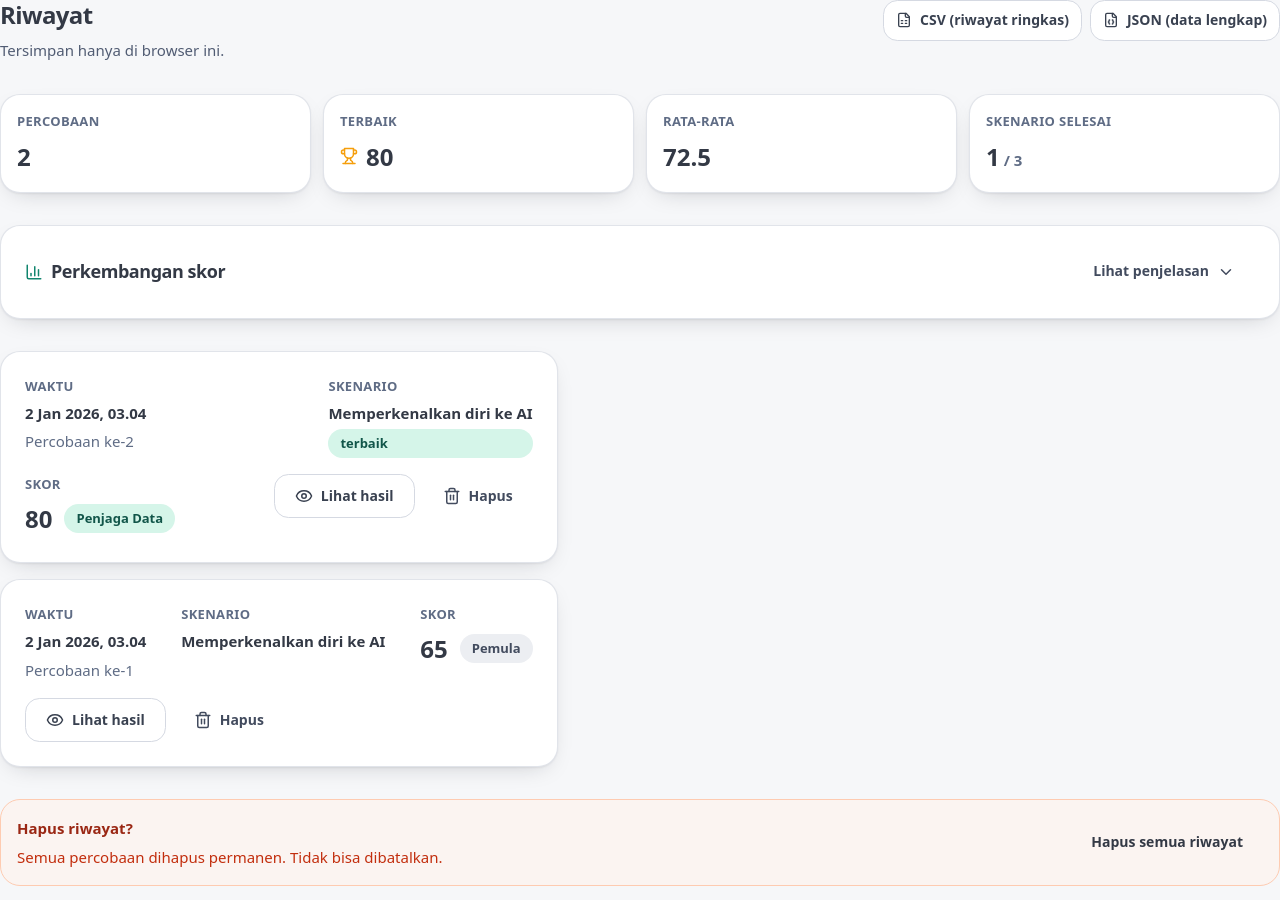
Test: HistoryPage — berisi percobaan › menampilkan grafik perkembangan skor setelah accordion dibuka
Click the button "Lihat penjelasan". click: (1164, 272)
box: 1073,250 -> 1255,294
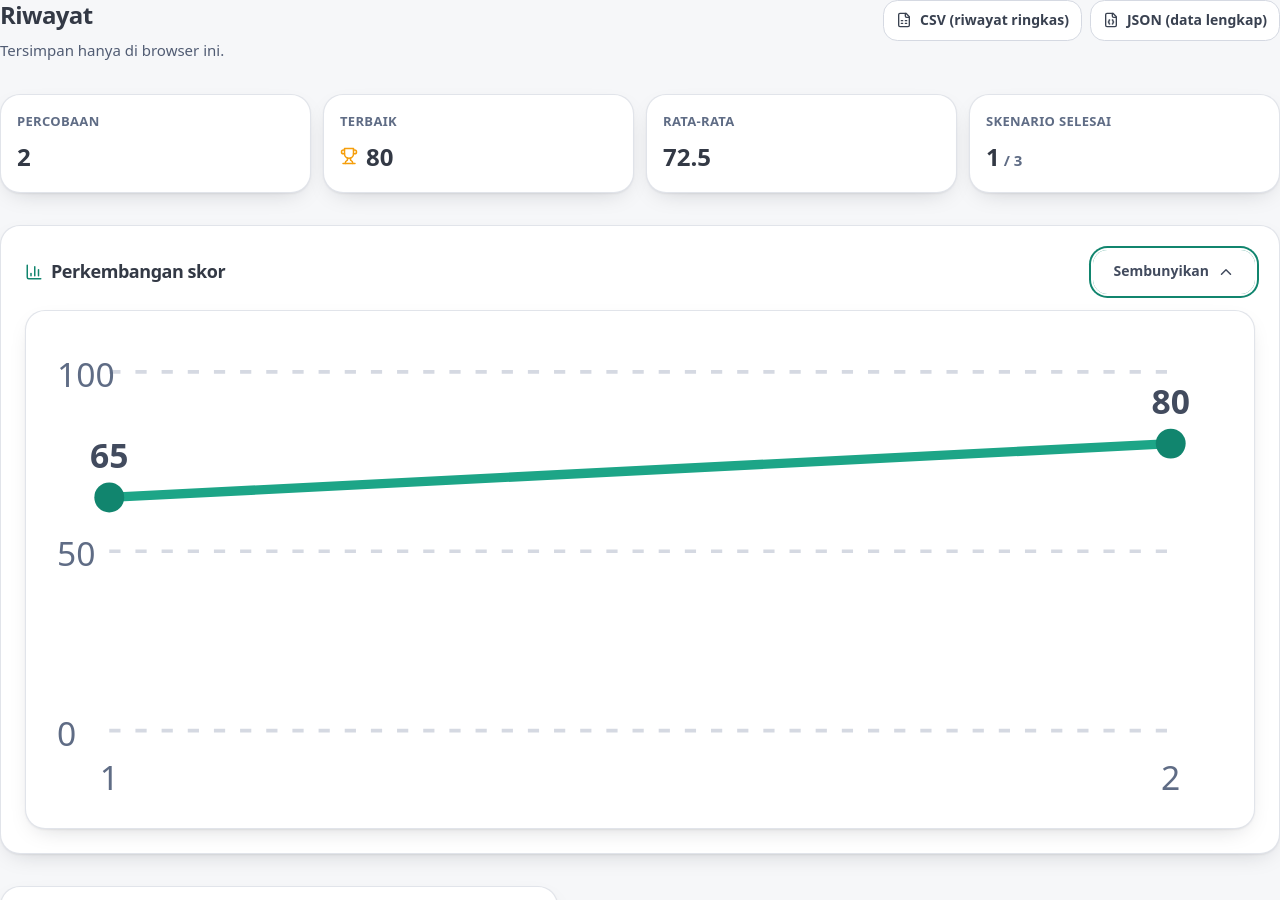
Check: the text "80" is shown, box 1152,377 -> 1190,423
Check: the picture named "Garis skor total dari waktu ke waktu." is shown, box 42,326 -> 1238,812
